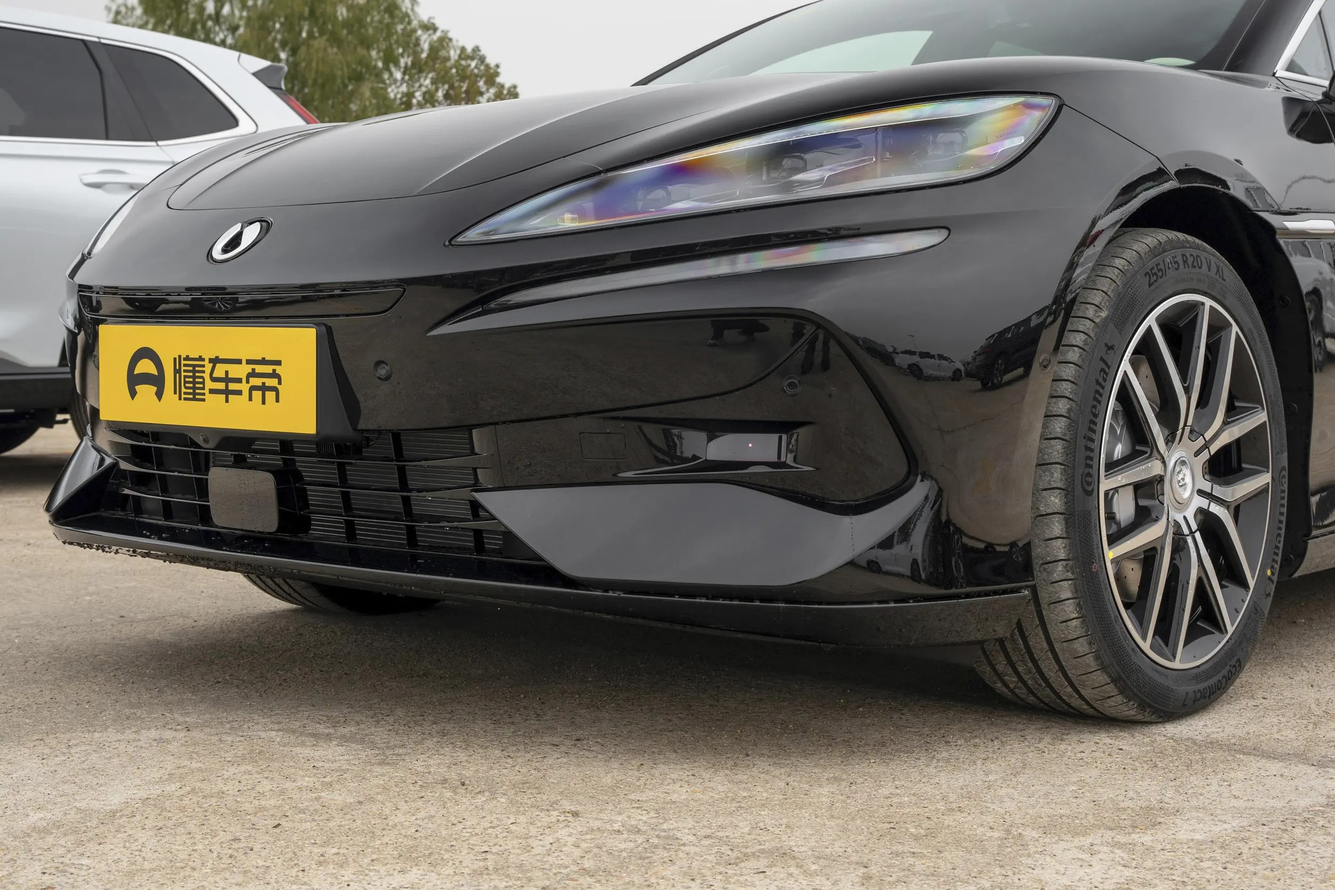DENZA: (212, 222, 260, 259)
